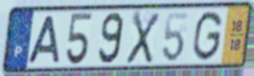5: (64, 11, 94, 67), (161, 10, 191, 63)
9: (98, 11, 126, 65)
A: (26, 15, 62, 66)
G: (191, 9, 224, 63)
X: (124, 10, 162, 66)
